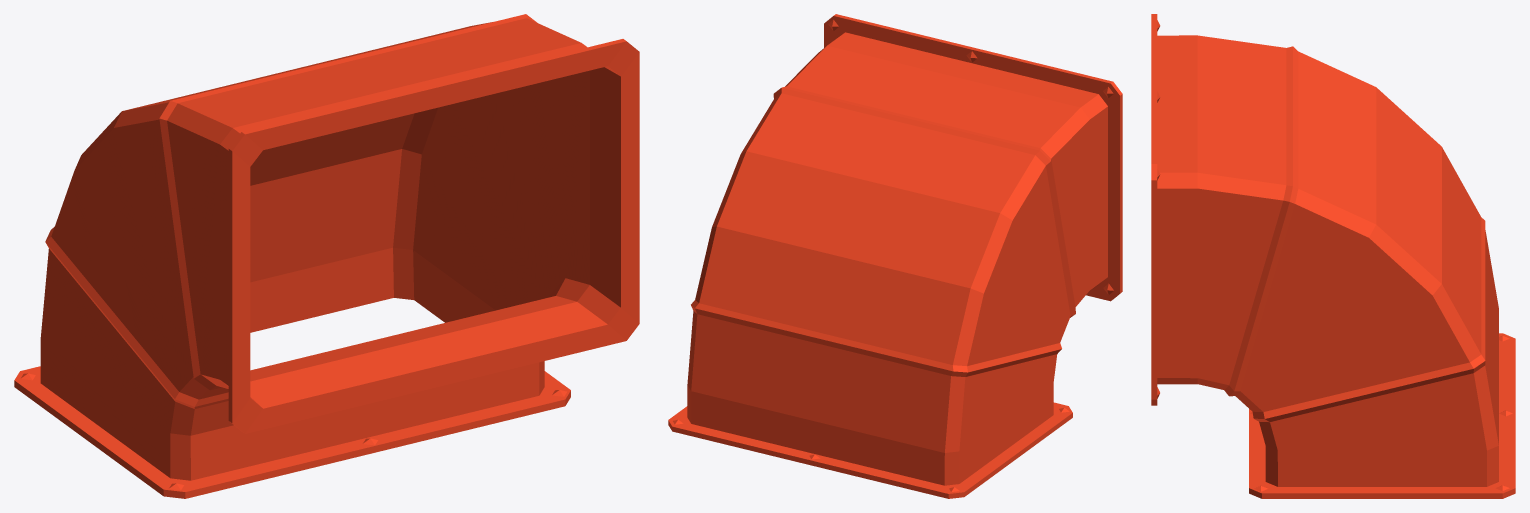
Rendered from SM_Vent_Elevation_B_City.fbx.
The picture shows the model from 3 angles, left to right: view 1: azimuth 30°, elevation 25°; view 2: azimuth 150°, elevation 25°; view 3: azimuth 270°, elevation 25°; orthographic projection. The views are drawn at different scales.
Parts seen in each view (by area): view 1: SM_Vent_Elevation_B_City; view 2: SM_Vent_Elevation_B_City; view 3: SM_Vent_Elevation_B_City.
Boxes of the visible parts, x1,y1,x2,y2 form: SM_Vent_Elevation_B_City: (14, 14, 639, 498); SM_Vent_Elevation_B_City: (668, 14, 1122, 498); SM_Vent_Elevation_B_City: (1151, 14, 1515, 498).
Bounding box in the file's own units: 0.8224 × 0.789 × 0.7896.
